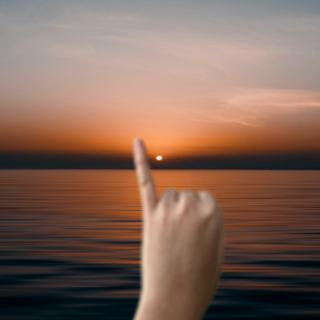Fine: (109, 129, 237, 313)
